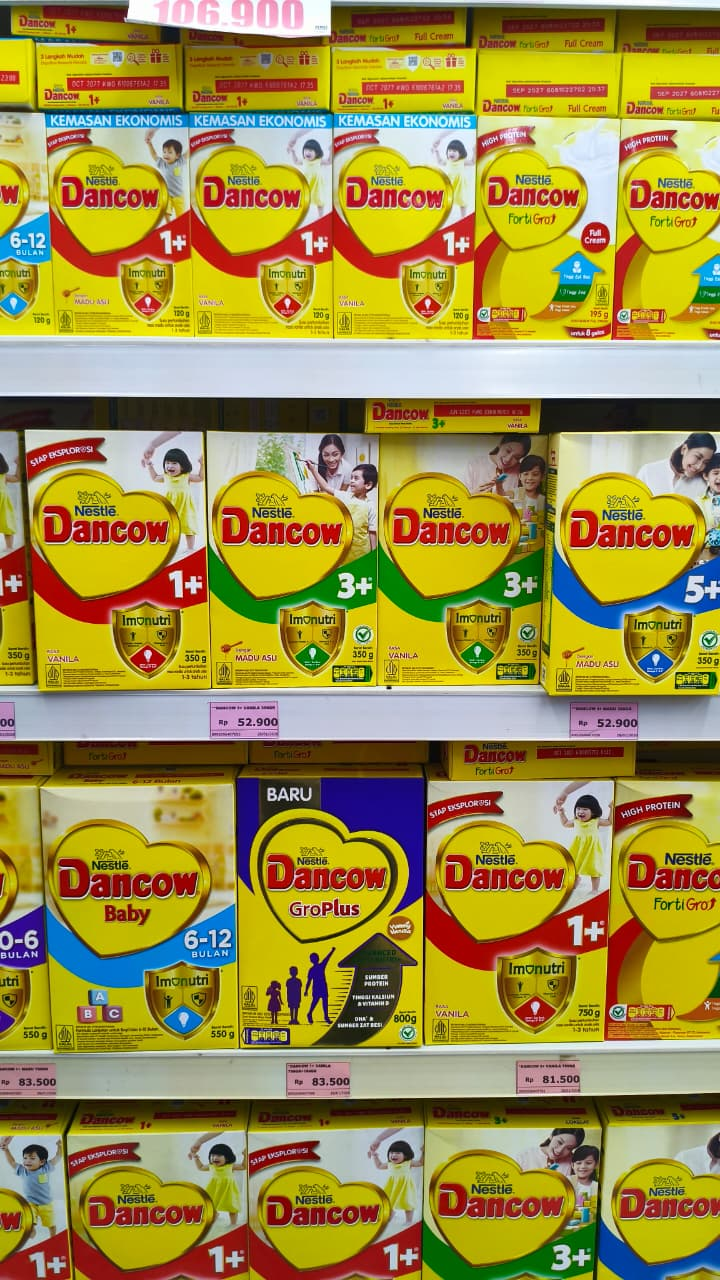Dancow: (50, 823, 219, 924), (206, 472, 358, 573), (32, 472, 184, 573), (375, 465, 527, 566), (556, 468, 708, 569), (429, 818, 581, 919), (249, 820, 401, 921)
